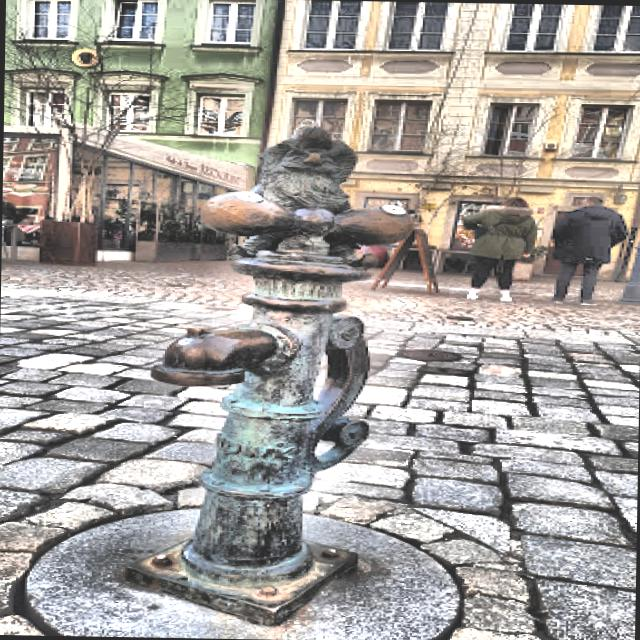Orzezwiacz: (153, 128, 416, 581)
